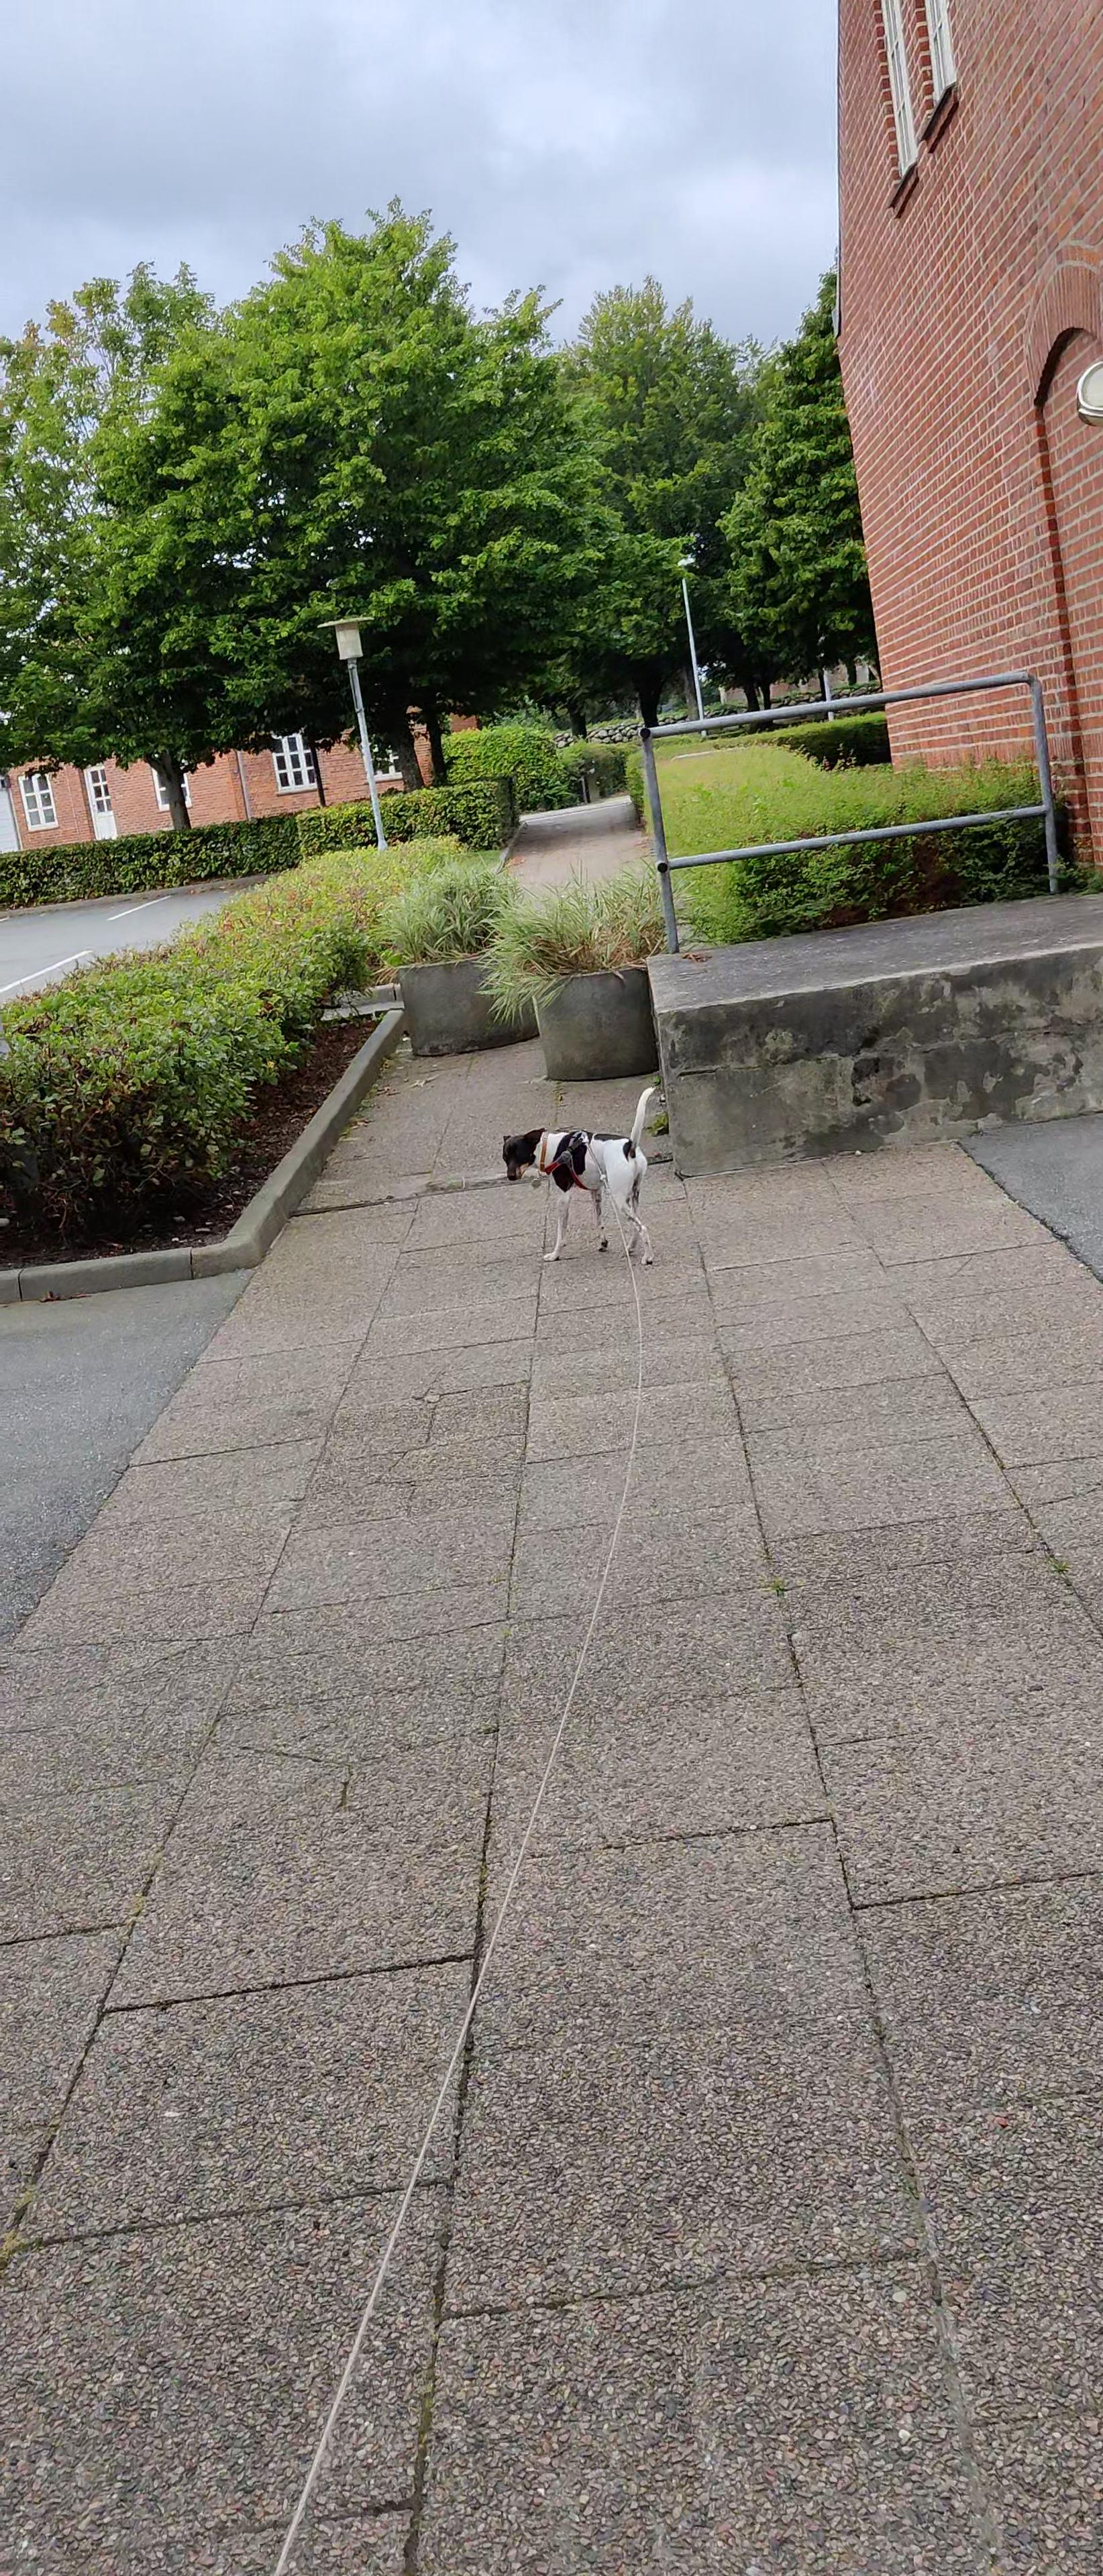Dog: (492, 1081, 666, 1270)
